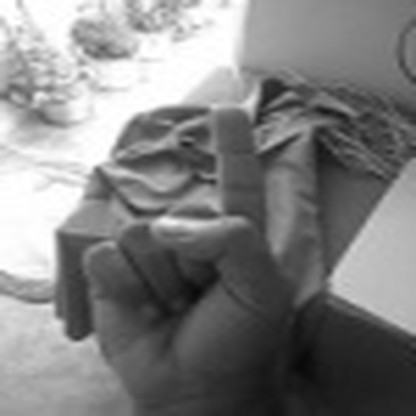d: (77, 95, 270, 416)
